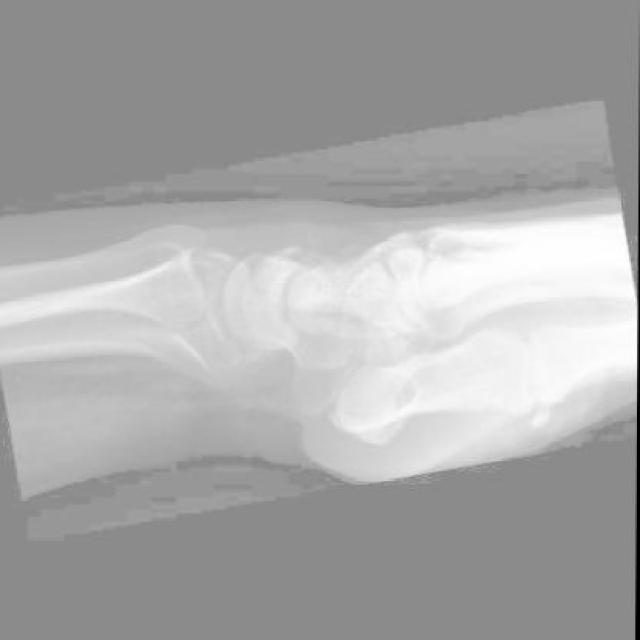Fracture: (296, 233, 330, 259)
